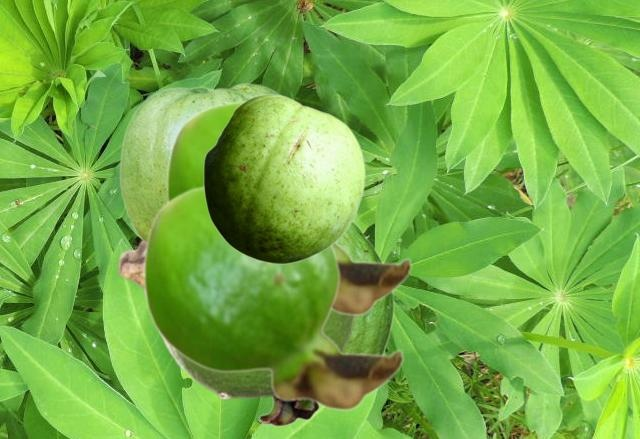guava: (142, 185, 404, 411), (165, 99, 412, 316), (116, 237, 356, 399), (242, 221, 394, 426), (203, 94, 364, 263), (119, 83, 280, 238)
